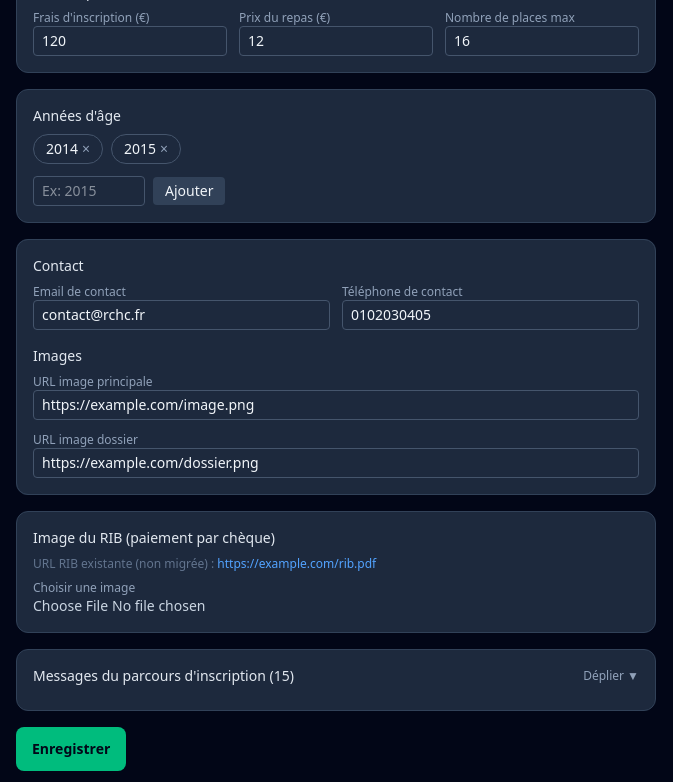
Test: ParametresInscriptionPage › affiche un message d'erreur explicite quand l'appel API échoue
(page scrolled)
Click the button "Enregistrer".
click(71, 749)  # box [16, 727, 126, 771]
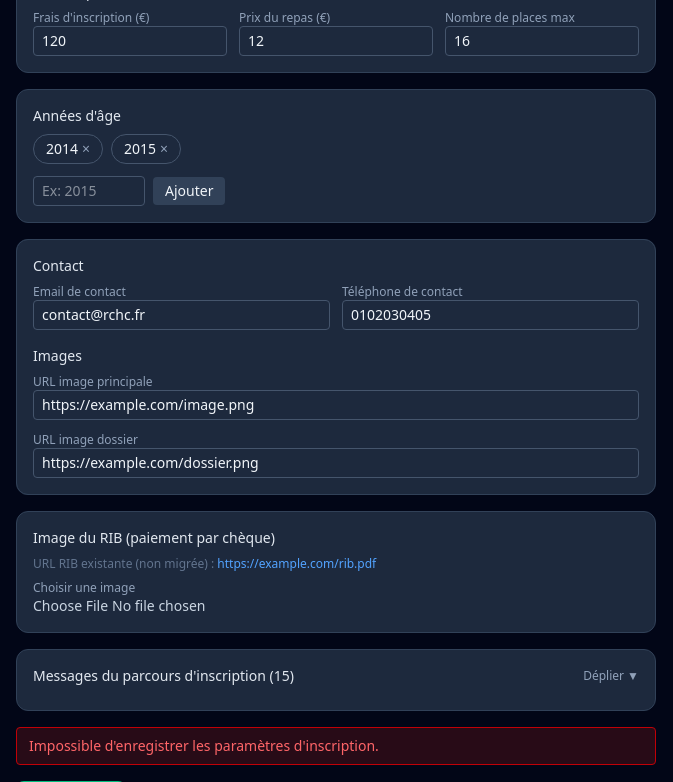
Check: the text "Impossible d'enregistrer les paramètres d'inscription." is shown, box [16, 727, 656, 765]
